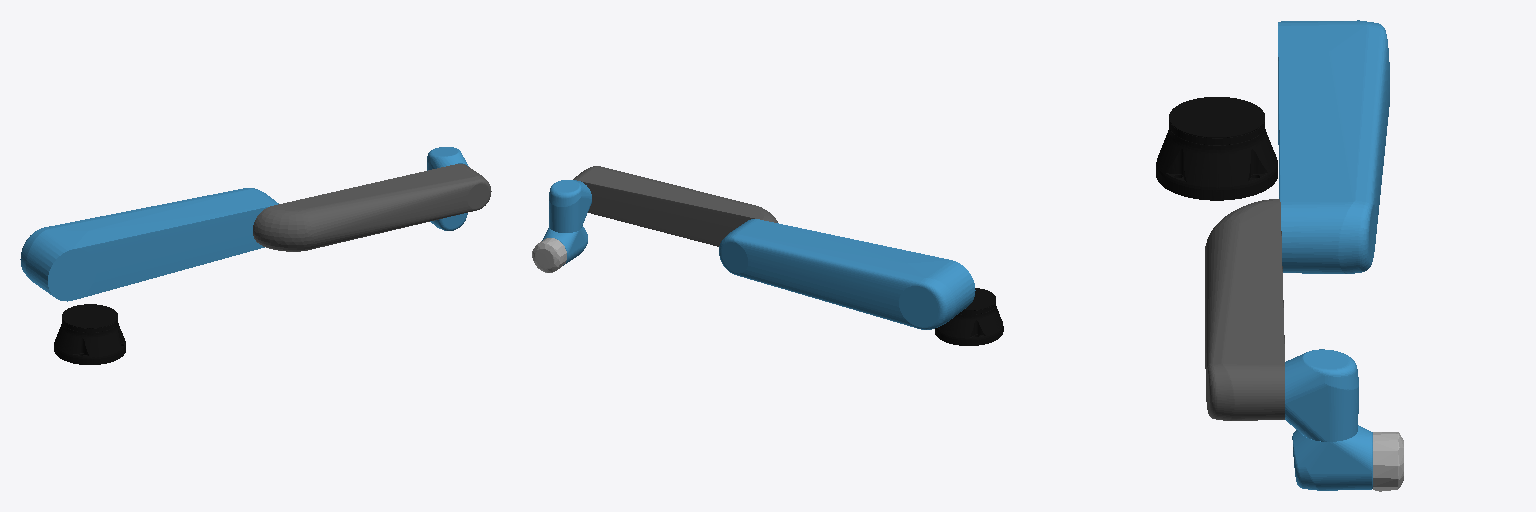
URDF robot description (ur10e_robot_mod_new):
?<?xml version="1.0" encoding="utf-8"?>
<robot name="ur10e_robot_mod_new">
  <material name="JointPlasticBlack">
    <color rgba="0.1038 0.1038 0.1038 1" />
  </material>
  <material name="JointPlasticBlue">
    <color rgba="0.2979 0.6108 0.797 1" />
  </material>
  <material name="JointPlasticGrey">
    <color rgba="0.4 0.4 0.4 1" />
  </material>
  <material name="Aluminum">
    <color rgba="0.6981 0.6981 0.6981 1" />
  </material>
  <link name="base">
    <visual>
      <origin rpy="0 0 -3.141593" />
      <geometry>
        <mesh filename="package://meshes/base.stl" scale="1 1 1" />
      </geometry>
      <material name="JointPlasticBlack">
        <color rgba="0.1038 0.1038 0.1038 1" />
      </material>
    </visual>
    <collision>
      <origin rpy="0 0 -3.141593" />
      <geometry>
        <mesh filename="package://meshes/base.stl" scale="1 1 1" />
      </geometry>
    </collision>
  </link>
  <link name="base_link">
    <inertial>
      <origin rpy="0 0 0" xyz="0 0 0" />
      <mass value="4" />
      <inertia ixx="0.00610633101314306" ixy="0" ixz="0" iyy="0.00610633101314306" iyz="0" izz="0.0112500004470348" />
    </inertial>
    <visual>
      <origin rpy="0 0 -3.141593" />
      <geometry>
        <mesh filename="package://meshes/base.stl" scale="1 1 1" />
      </geometry>
      <material name="JointPlasticBlack">
        <color rgba="0.1038 0.1038 0.1038 1" />
      </material>
    </visual>
    <collision>
      <origin rpy="0 0 -3.141593" />
      <geometry>
        <mesh filename="package://meshes/base.stl" scale="1 1 1" />
      </geometry>
    </collision>
  </link>
  <link name="shoulder_link">
    <inertial>
      <origin rpy="0 0 0" xyz="0 0 0" />
      <mass value="7.7779998779" />
      <inertia ixx="0.0314743109047413" ixy="0" ixz="0" iyy="0.0314743109047413" iyz="0" izz="0.0218756254762411" />
    </inertial>
    <visual>
      <origin rpy="0 0 -3.141593" />
      <geometry>
        <mesh filename="package://meshes/shoulder.stl" scale="1 1 1" />
      </geometry>
      <material name="JointPlasticBlack">
        <color rgba="0.1038 0.1038 0.1038 1" />
      </material>
    </visual>
    <collision>
      <origin rpy="0 0 -3.141593" />
      <geometry>
        <mesh filename="package://meshes/shoulder.stl" scale="1 1 1" />
      </geometry>
    </collision>
  </link>
  <link name="upper_arm_link">
    <inertial>
      <origin rpy="90 0 0" xyz="-0.306 0 0.175" />
      <mass value="12.9300003052" />
      <inertia ixx="0.036365631967783" ixy="0" ixz="5.17803222521707E-08" iyy="0.421753793954849" iyz="0" izz="0.421753913164139" />
    </inertial>
    <visual>
      <origin rpy="-4.712389 0 -1.570796" xyz="0 0 0.1762" />
      <geometry>
        <mesh filename="package://meshes/upperarm.stl" scale="1 1 1" />
      </geometry>
      <material name="JointPlasticBlue">
        <color rgba="0.2979 0.6108 0.797 1" />
      </material>
    </visual>
    <collision>
      <origin rpy="-4.712389 0 -1.570796" xyz="0 0 0.1762" />
      <geometry>
        <mesh filename="package://meshes/upperarm.stl" scale="1 1 1" />
      </geometry>
    </collision>
  </link>
  <link name="forearm_link">
    <inertial>
      <origin rpy="90 0 0" xyz="-0.285775 0 0.0393" />
      <mass value="3.8699998856" />
      <inertia ixx="0.0108843771740794" ixy="0" ixz="1.34236133320087E-08" iyy="0.110793024301529" iyz="0" izz="0.110793054103851" />
    </inertial>
    <visual>
      <origin rpy="-4.712389 0 -1.570796" xyz="0 0 0.0393" />
      <geometry>
        <mesh filename="package://meshes/forearm.stl" scale="1 1 1" />
      </geometry>
      <material name="JointPlasticGrey">
        <color rgba="0.4 0.4 0.4 1" />
      </material>
    </visual>
    <collision>
      <origin rpy="-4.712389 0 -1.570796" xyz="0 0 0.0393" />
      <geometry>
        <mesh filename="package://meshes/forearm.stl" scale="1 1 1" />
      </geometry>
    </collision>
  </link>
  <link name="wrist_1_link">
    <inertial>
      <origin rpy="0 0 0" xyz="0 0 0" />
      <mass value="1.9600000381" />
      <inertia ixx="0.00510824797675014" ixy="0" ixz="0" iyy="0.00510824797675014" iyz="0" izz="0.00551250018179417" />
    </inertial>
    <visual>
      <origin rpy="-4.712389 0 0" xyz="0 0 -0.135" />
      <geometry>
        <mesh filename="package://meshes/wrist1.stl" scale="1 1 1" />
      </geometry>
      <material name="JointPlasticBlue">
        <color rgba="0.2979 0.6108 0.797 1" />
      </material>
    </visual>
    <collision>
      <origin rpy="-4.712389 0 0" xyz="0 0 -0.135" />
      <geometry>
        <mesh filename="package://meshes/wrist1.stl" scale="1 1 1" />
      </geometry>
    </collision>
  </link>
  <link name="wrist_2_link">
    <inertial>
      <origin rpy="0 0 0" xyz="0 0 0" />
      <mass value="1.9600000381" />
      <inertia ixx="0.00510824797675014" ixy="0" ixz="0" iyy="0.00510824797675014" iyz="0" izz="0.00551250018179417" />
    </inertial>
    <visual>
      <origin xyz="0 0 -0.12" />
      <geometry>
        <mesh filename="package://meshes/wrist2.stl" scale="1 1 1" />
      </geometry>
      <material name="JointPlasticBlue">
        <color rgba="0.2979 0.6108 0.797 1" />
      </material>
    </visual>
    <collision>
      <origin xyz="0 0 -0.12" />
      <geometry>
        <mesh filename="package://meshes/wrist2.stl" scale="1 1 1" />
      </geometry>
    </collision>
  </link>
  <link name="wrist_3_link">
    <inertial>
      <origin rpy="0 0 0" xyz="0 0 -0.025" />
      <mass value="0.202000007" />
      <inertia ixx="0.000144345773151144" ixy="0" ixz="0" iyy="0.000144345773151144" iyz="0" izz="0.000204525000299327" />
    </inertial>
    <visual>
      <origin rpy="-4.712389 0 0" xyz="0 0 -0.1168" />
      <geometry>
        <mesh filename="package://meshes/wrist3.stl" scale="1 1 1" />
      </geometry>
      <material name="Aluminum">
        <color rgba="0.6981 0.6981 0.6981 1" />
      </material>
    </visual>
    <collision>
      <origin rpy="-4.712389 0 0" xyz="0 0 -0.1168" />
      <geometry>
        <mesh filename="package://meshes/wrist3.stl" scale="1 1 1" />
      </geometry>
    </collision>
  </link>
  <link name="flange" />
  <link name="tool0" />
  <joint name="base_link-base_link_inertia" type="fixed">
    <origin rpy="0 0 -3.141593" />
    <parent link="base" />
    <child link="base_link" />
  </joint>
  <joint name="shoulder_pan_joint" type="revolute">
    <origin xyz="0 0 0.1807" />
    <parent link="base_link" />
    <child link="shoulder_link" />
    <limit lower="-6.28318525850773" upper="6.28318525850773" effort="330" velocity="7" />
  </joint>
  <joint name="shoulder_lift_joint" type="revolute">
    <origin rpy="-4.712389 0 0" />
    <parent link="shoulder_link" />
    <child link="upper_arm_link" />
    <limit lower="-6.28318525850773" upper="6.28318525850773" effort="330" velocity="7" />
  </joint>
  <joint name="elbow_joint" type="revolute">
    <origin xyz="-0.6127 0 0" />
    <parent link="upper_arm_link" />
    <child link="forearm_link" />
    <limit lower="-3.14159262925386" upper="3.14159262925386" effort="150" velocity="7" />
  </joint>
  <joint name="wrist_1_joint" type="revolute">
    <origin xyz="-0.57155 0 0.17415" />
    <parent link="forearm_link" />
    <child link="wrist_1_link" />
    <limit lower="-6.28318525850773" upper="6.28318525850773" effort="56" velocity="7" />
  </joint>
  <joint name="wrist_2_joint" type="revolute">
    <origin rpy="-4.712389 0 0" xyz="0 -0.11985 0" />
    <parent link="wrist_1_link" />
    <child link="wrist_2_link" />
    <limit lower="-6.28318525850773" upper="6.28318525850773" effort="56" velocity="7" />
  </joint>
  <joint name="wrist_3_joint" type="revolute">
    <origin rpy="-1.570796 0 0" xyz="0 0.11655 0" />
    <parent link="wrist_2_link" />
    <child link="wrist_3_link" />
    <limit lower="-6.28318525850773" upper="6.28318525850773" effort="56" velocity="7" />
  </joint>
  <joint name="wrist_3-flange" type="fixed">
    <origin rpy="0 4.712389 -1.570796" />
    <parent link="wrist_3_link" />
    <child link="flange" />
  </joint>
  <joint name="flange-tool0" type="fixed">
    <origin rpy="-4.712389 0 -4.712389" />
    <parent link="flange" />
    <child link="tool0" />
  </joint>
</robot>

--- What the picture shows (computed from the rendered views, not written in the file) ---
Views: 3 orthographic renders of the robot side by side, from view 1: azimuth 30°, elevation 25°; view 2: azimuth 150°, elevation 25°; view 3: azimuth 270°, elevation 25°.
Robot: ur10e_robot_mod_new — 10 links, 9 joints (6 revolute, 3 fixed); root link base; default pose: every joint at zero.
Links seen in each view (by area): view 1: upper_arm_link, forearm_link, base, base_link, wrist_1_link; view 2: upper_arm_link, forearm_link, wrist_1_link, base_link, base, wrist_3_link, wrist_2_link; view 3: upper_arm_link, forearm_link, wrist_1_link, base, base_link, wrist_2_link, wrist_3_link.
Boxes of the visible links, box(x1,y1,x2,y2) form: upper_arm_link: box(20, 188, 278, 301); forearm_link: box(253, 164, 491, 251); base: box(54, 304, 125, 364); base_link: box(54, 304, 125, 364); wrist_1_link: box(427, 147, 468, 170); upper_arm_link: box(719, 219, 975, 329); forearm_link: box(573, 166, 777, 246); wrist_1_link: box(549, 180, 591, 232); base_link: box(935, 288, 1002, 345); base: box(936, 288, 1003, 345); wrist_3_link: box(532, 238, 566, 272); wrist_2_link: box(542, 226, 587, 265); upper_arm_link: box(1278, 20, 1389, 273); forearm_link: box(1205, 199, 1284, 420); wrist_1_link: box(1285, 349, 1358, 441); base: box(1156, 97, 1277, 200); base_link: box(1156, 97, 1277, 200); wrist_2_link: box(1292, 425, 1372, 490); wrist_3_link: box(1373, 432, 1403, 491).
Size in the robot's own frame: 1.33 by 0.3856 by 0.2571 metres.
Meshes: 7 distinct files referenced, 7 mesh visuals loaded (6 ASCII STL); not drawn: 1 (reference not matched to a file when rendering).